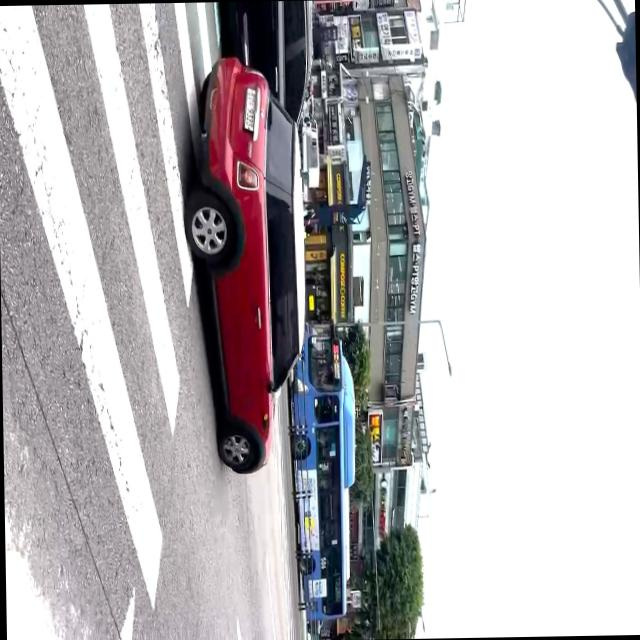building: (341, 56, 430, 444)
car: (180, 53, 308, 476), (292, 330, 353, 618)
